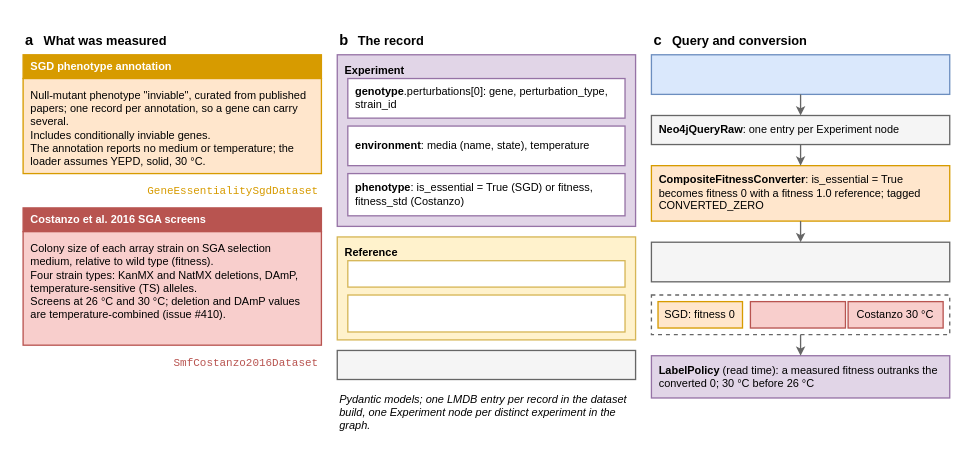
Some shapes in this 973 by 455 pixel diagram are drawn without their labels. The centre of each missing label's shape, as x and y in pixels:
"Costanzo 26 °C" belongs at (797,314).
"essentiality_smf.cql : both datasets, genes in $gene_set, solid medium" belongs at (800,73).
"genome_reference : strain S288C" belongs at (485,273).
"GenotypeAggregator : every entry of one gene in one record; nothing averaged" belongs at (800,261).
"phenotype_reference : is_essential = False (SGD) or fitness = 1.0 (Costanzo)" belongs at (485,313).
"Publication : PubMed id (SGD) or DOI (Costanzo)" belongs at (486,364).
